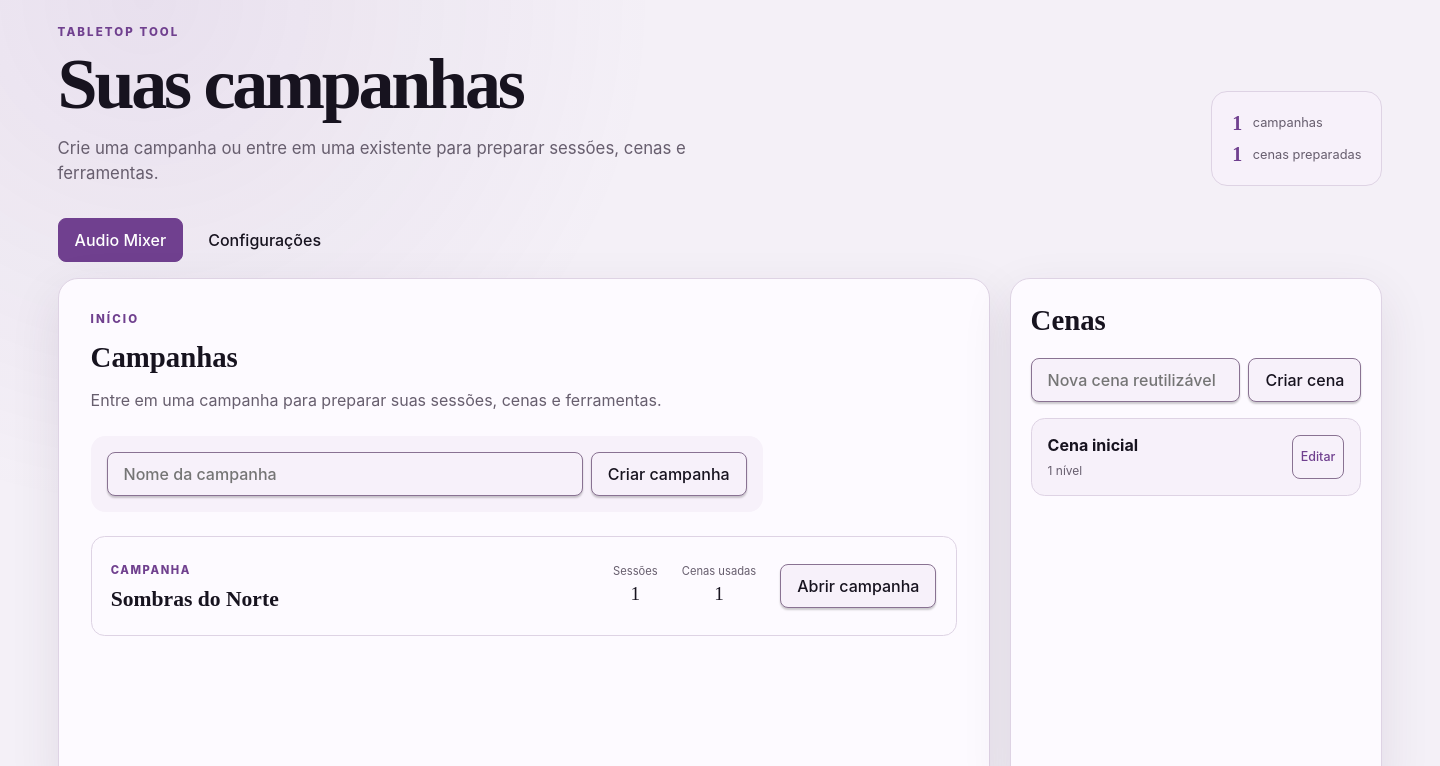
Core workspace › renames a campaign from its preparation header
Click the button with aria-label "Abrir campanha Sombras do Norte" at (858, 586), box [780,564,936,608]
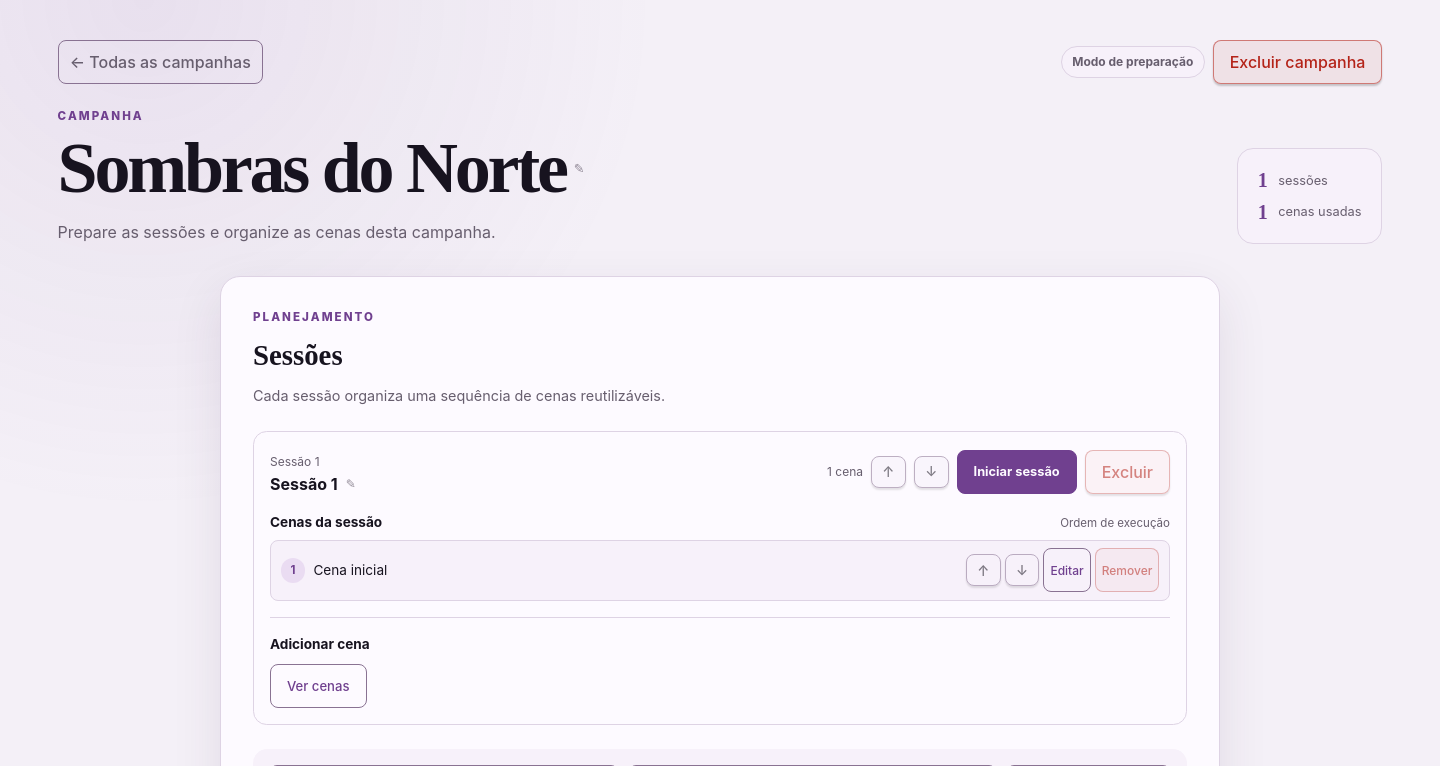
Double-click the heading "Sombras do Norte" at (312, 169), box [58,133,566,204]
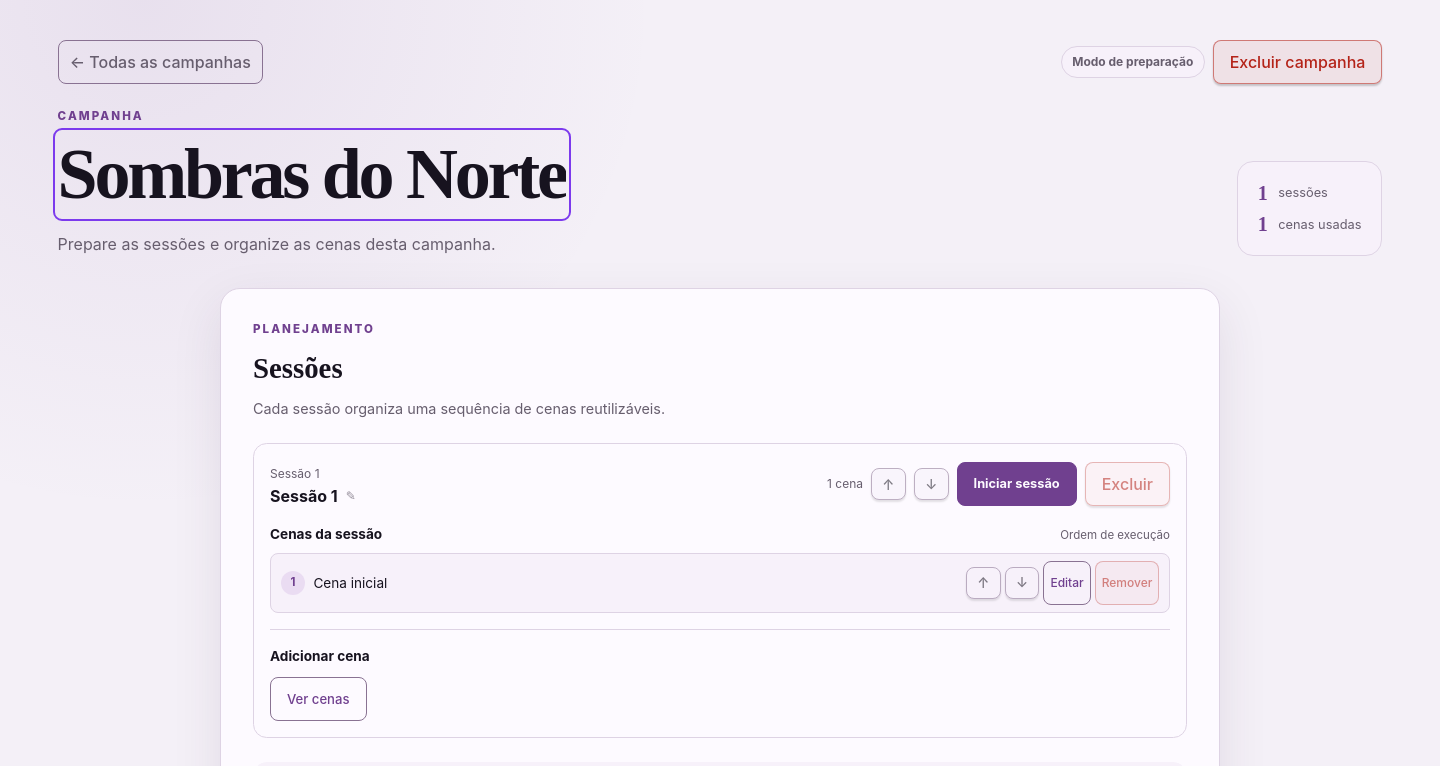
Clear the field named "Novo nome da campanha Sombras do Norte" at (312, 175), box [58,133,566,216]
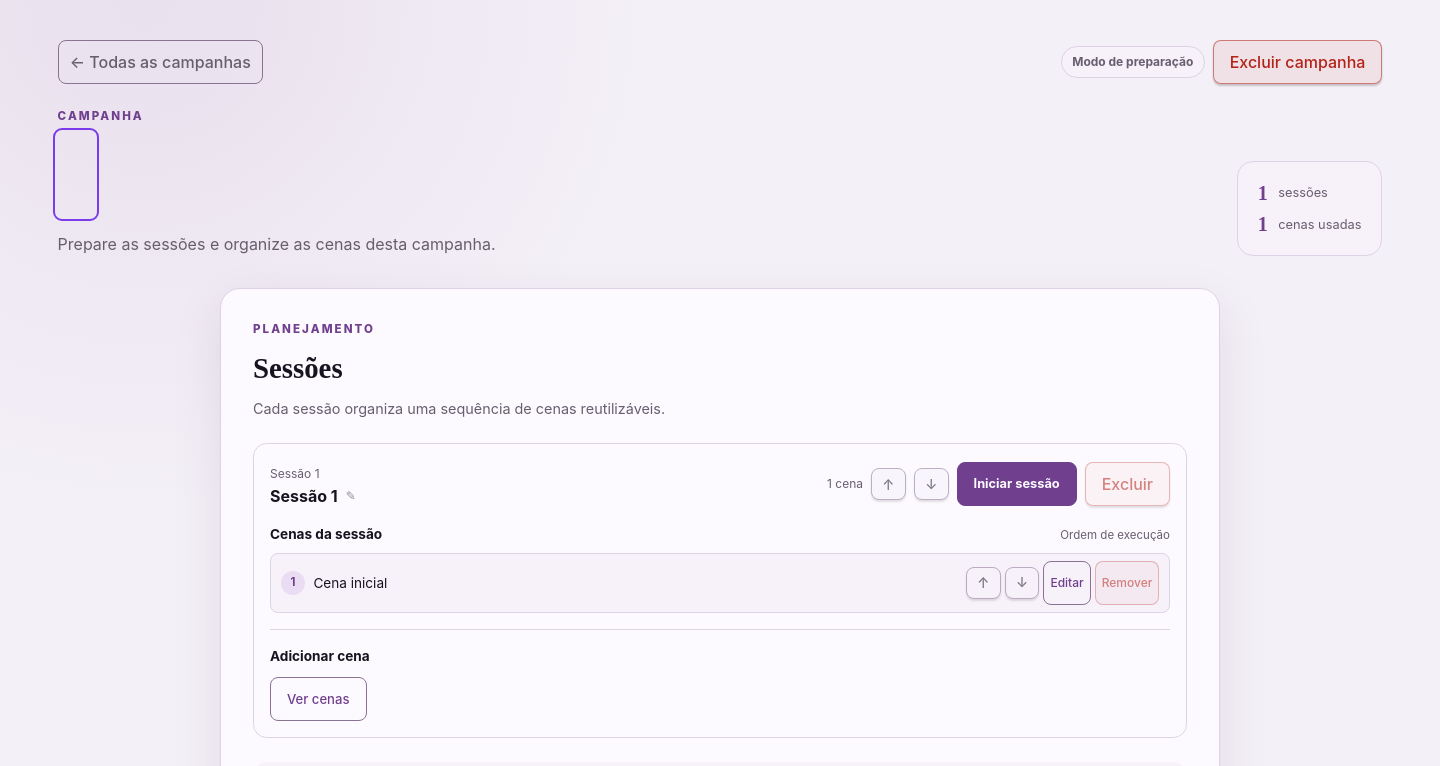
Type "Aurora Partida" into the field named "Novo nome da campanha Sombras do Norte" at (76, 175), box [58,133,94,216]
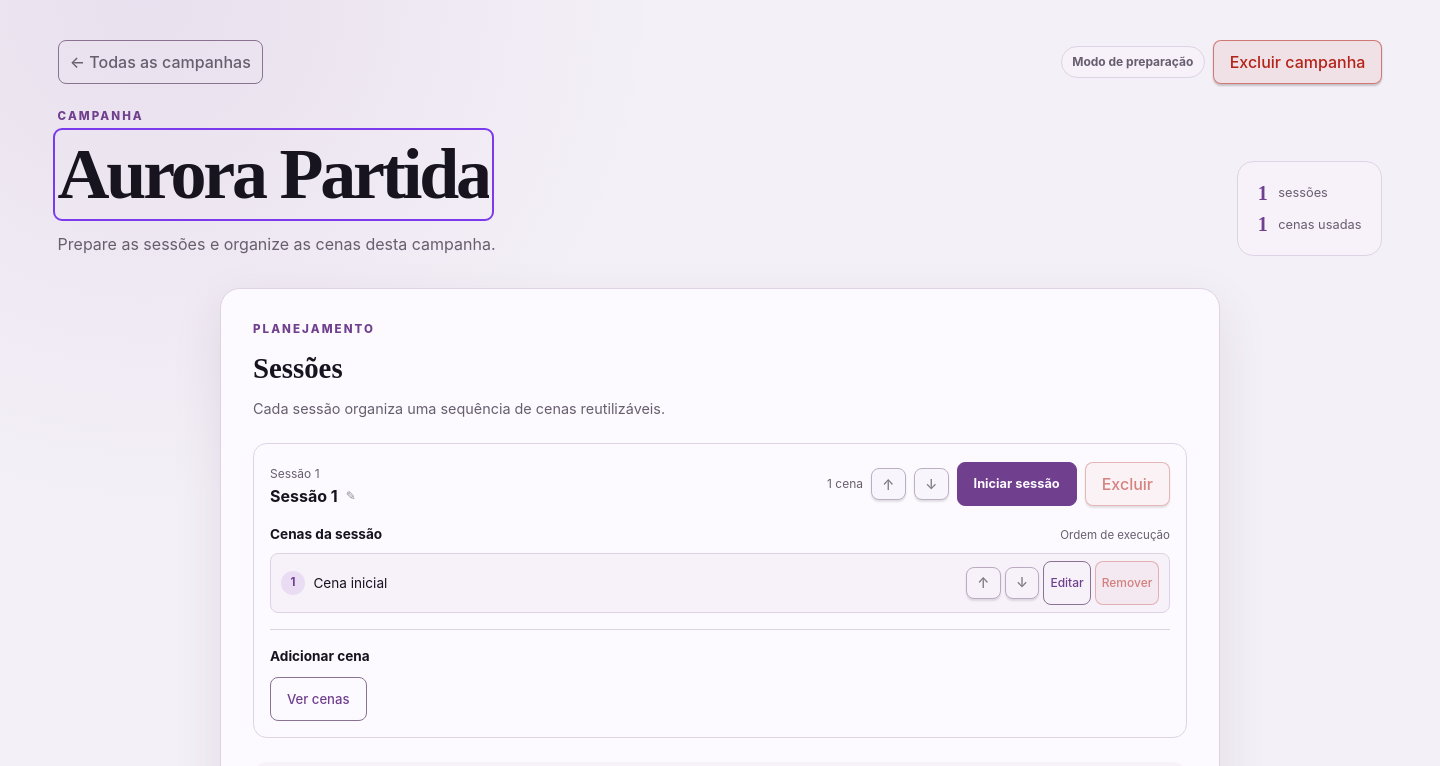
Press Enter
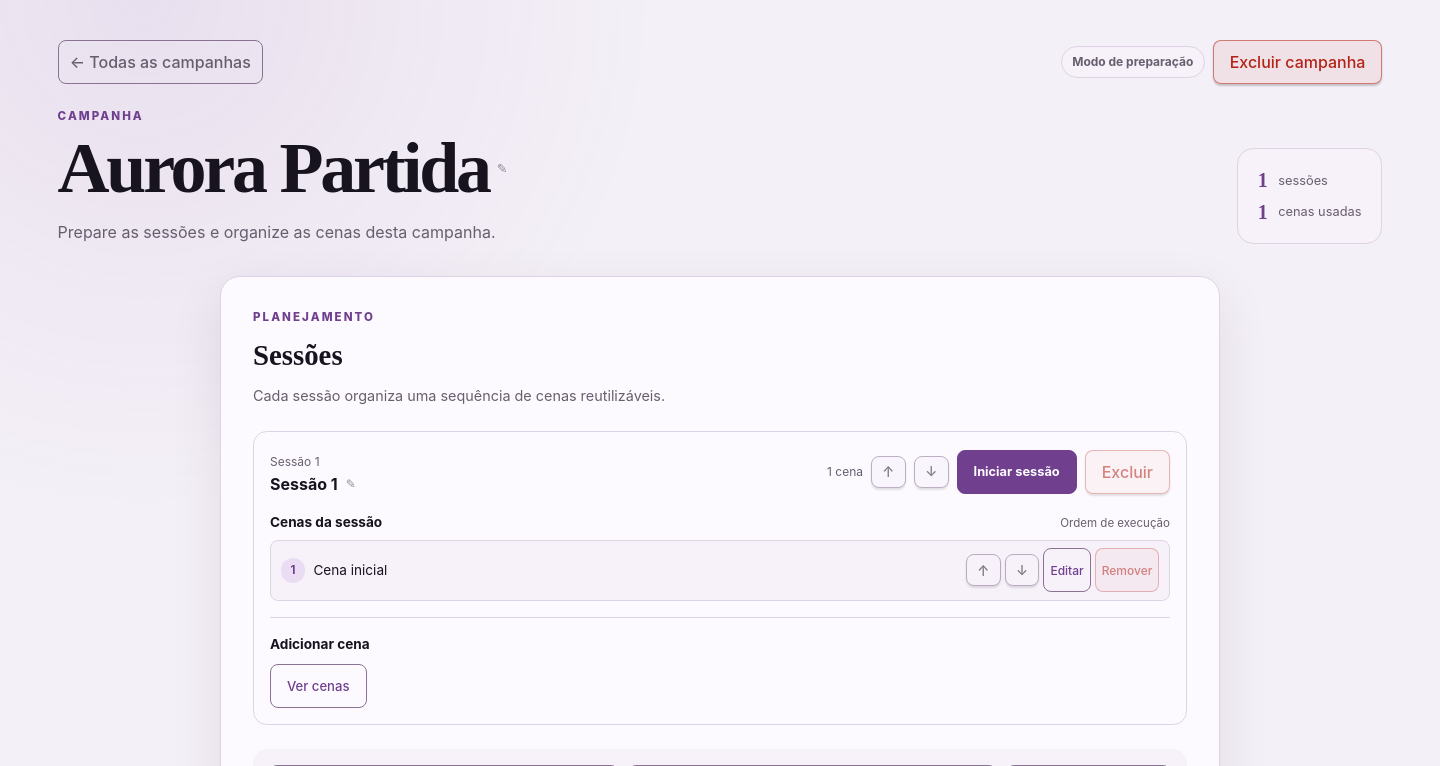
Check: the heading "Aurora Partida" is shown, box [58,133,489,204]
